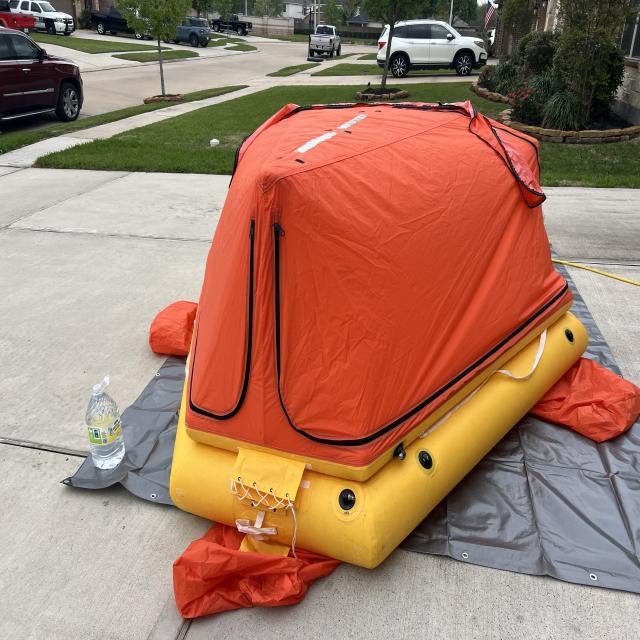Multi-person_life_raft: (147, 99, 640, 618)
